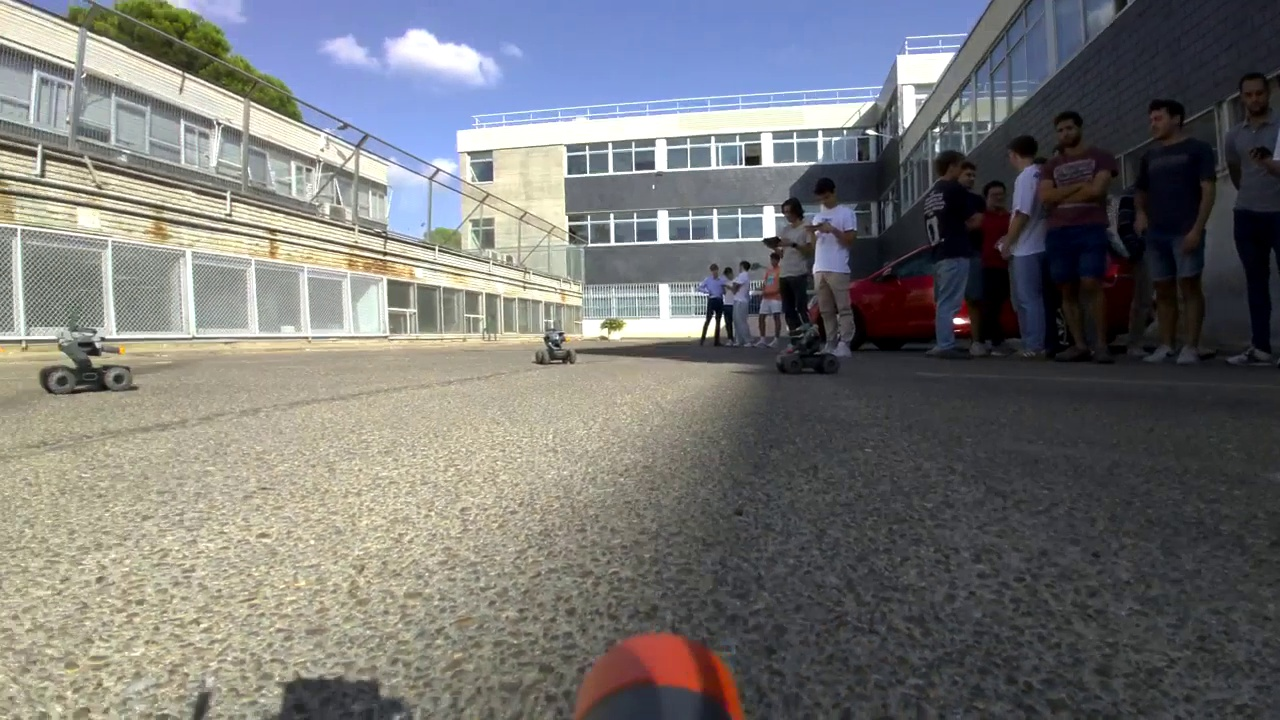robot: (36, 316, 135, 392), (775, 305, 841, 379), (533, 324, 581, 365)
